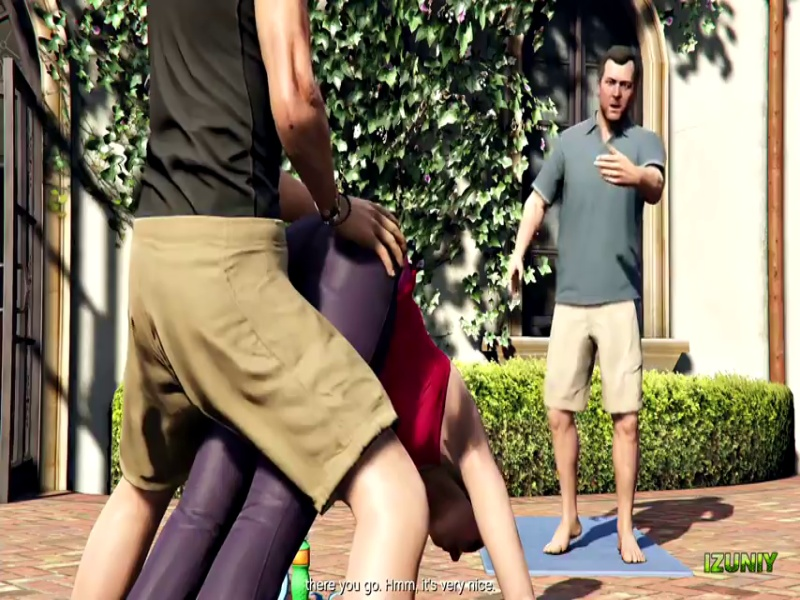human: (535, 45, 664, 574)
